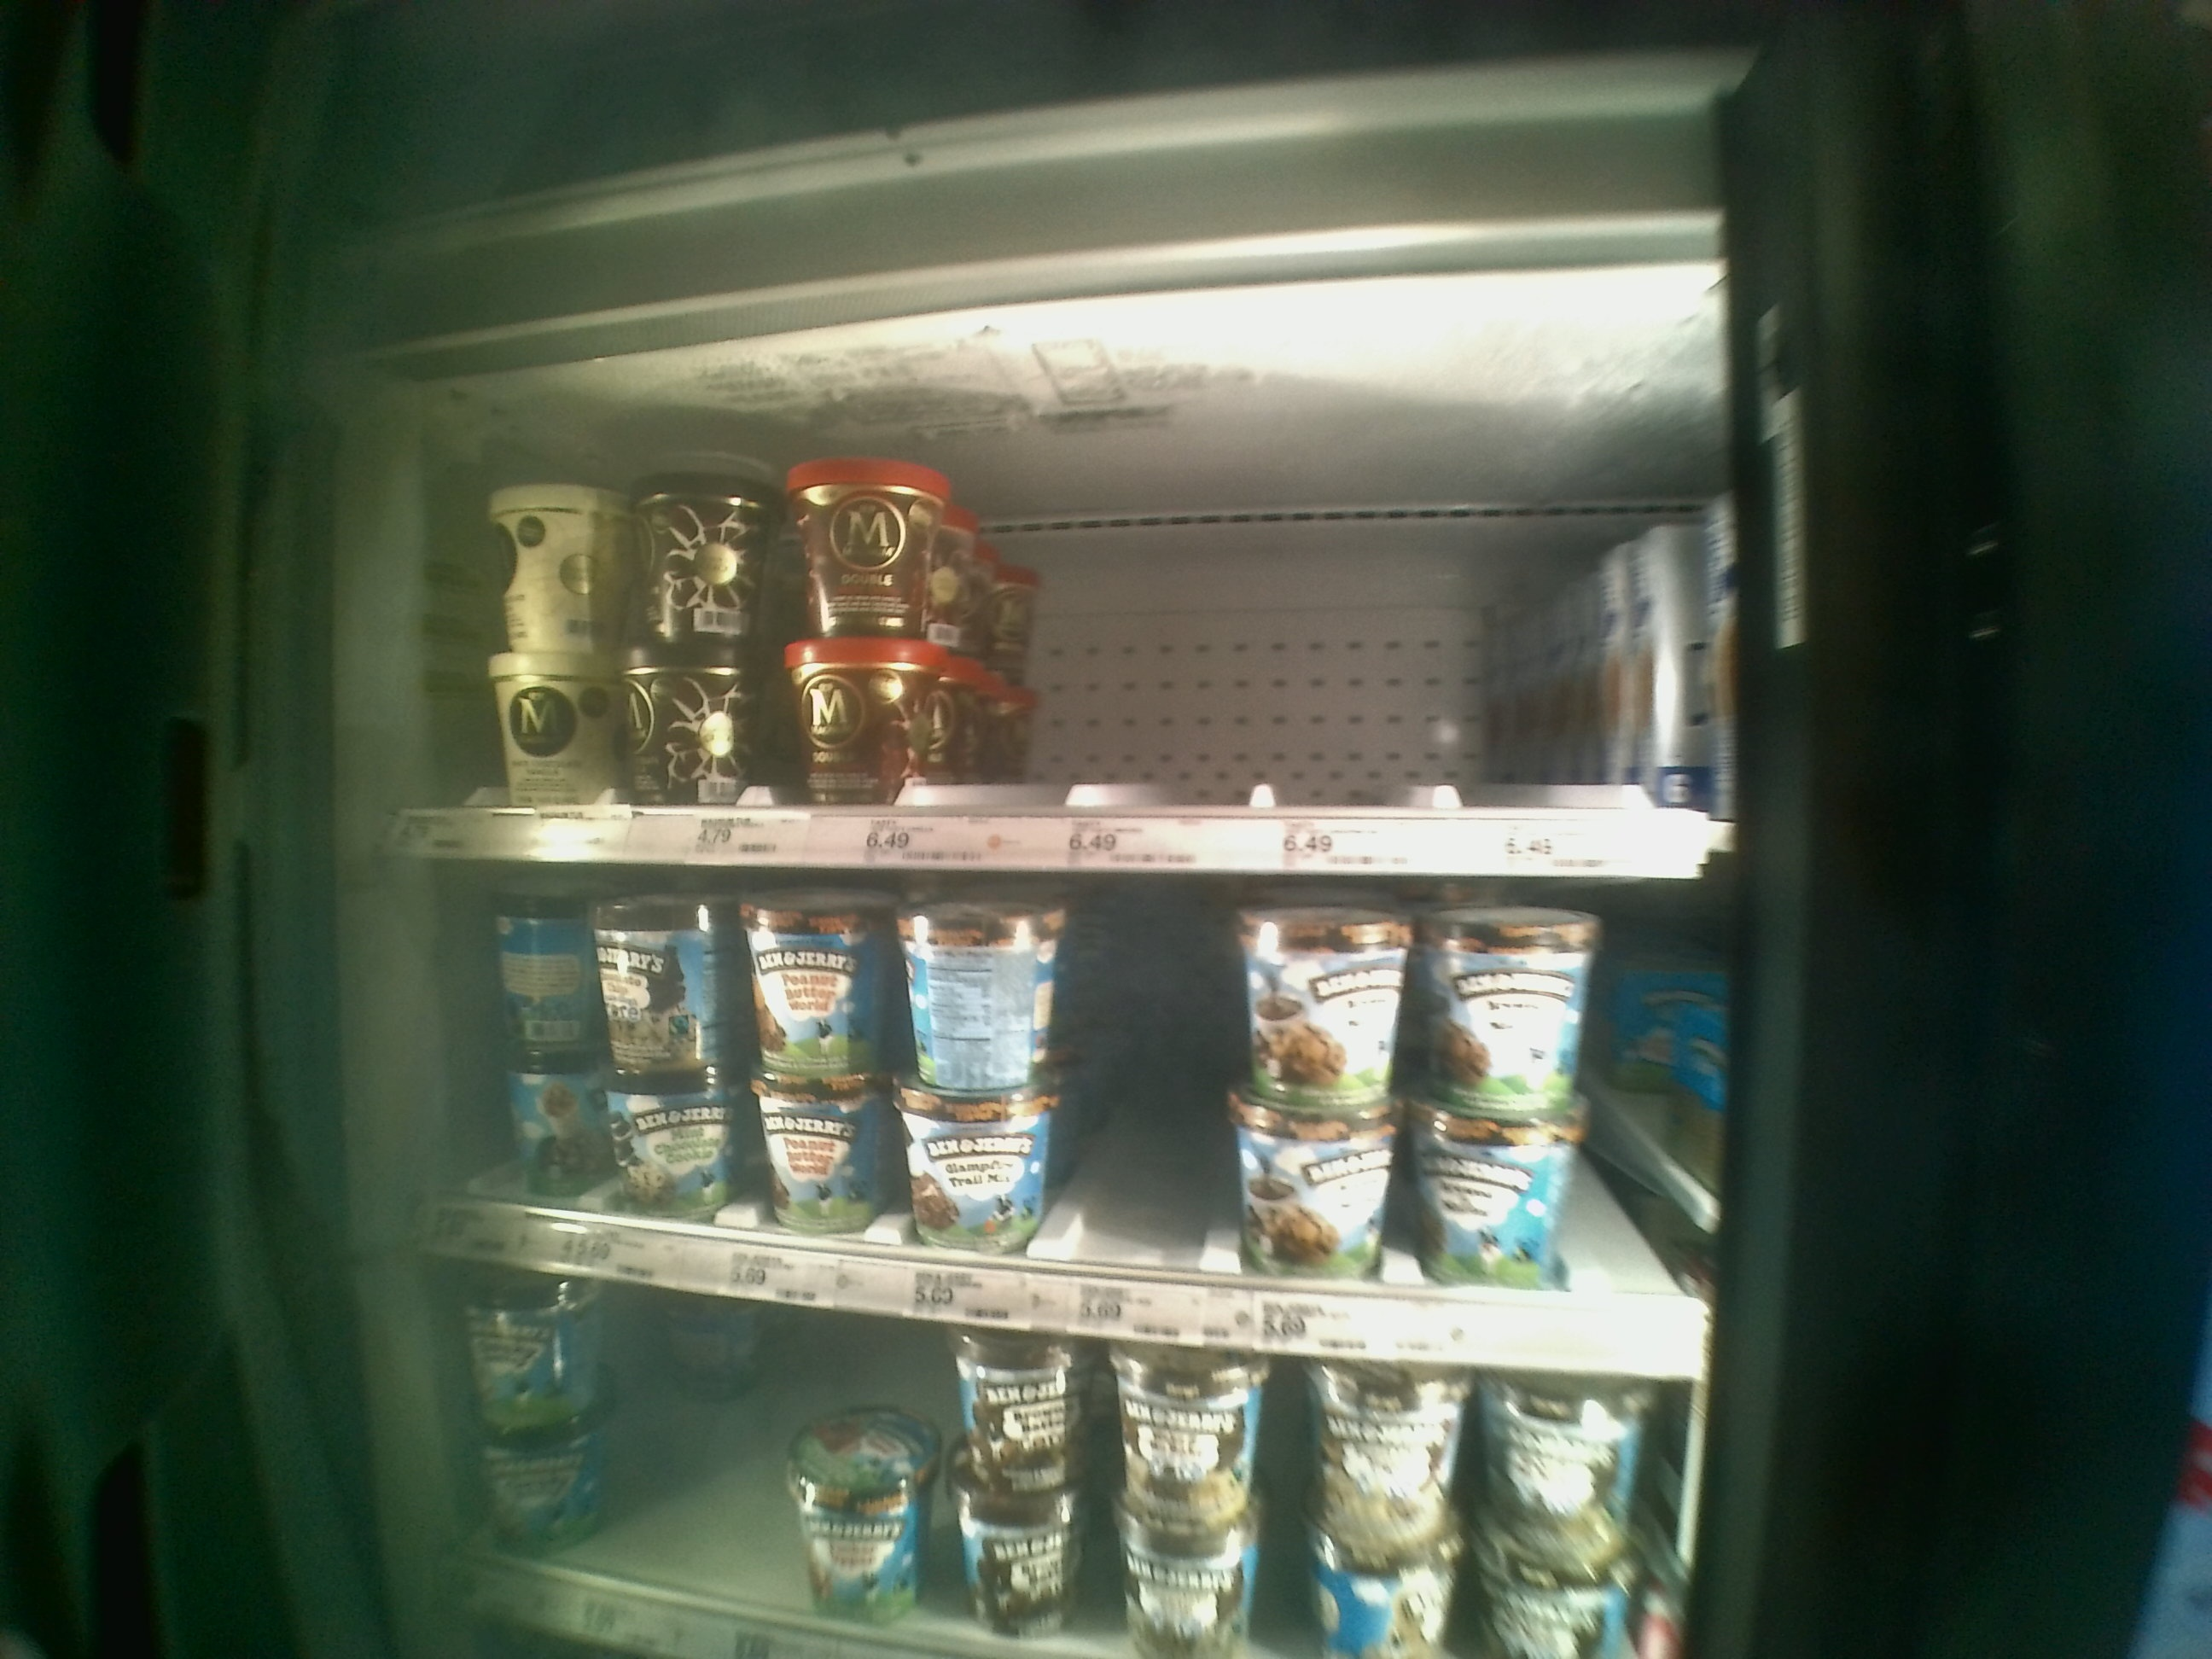ice-cream-shelf: (420, 413, 1716, 859)
